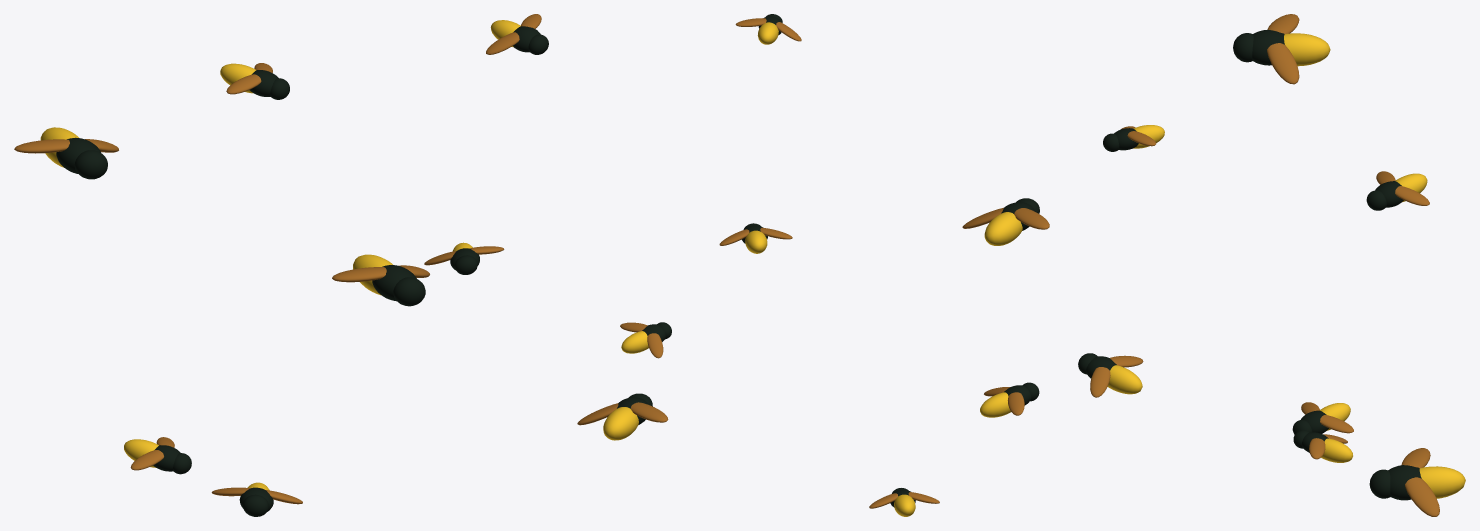
Rendered from Firefly_Swarm.obj.
3 views of the same model, side by side, from view 1: azimuth 30°, elevation 25°; view 2: azimuth 150°, elevation 25°; view 3: azimuth 270°, elevation 25° (orthographic). The views are drawn at different scales.
Visible parts, largest first — view 1: Firefly_06, Firefly_01, Firefly_02, Firefly_07, Firefly_03, Firefly_05, Firefly_04; view 2: Firefly_01, Firefly_06, Firefly_05, Firefly_04, Firefly_02, Firefly_03, Firefly_07; view 3: Firefly_01, Firefly_06, Firefly_05, Firefly_02, Firefly_07, Firefly_04, Firefly_03.
Part boxes in pixels (bbox=[...]): Firefly_06: bbox=[332, 254, 429, 306]; Firefly_01: bbox=[14, 127, 118, 179]; Firefly_02: bbox=[220, 63, 289, 99]; Firefly_07: bbox=[124, 437, 191, 474]; Firefly_03: bbox=[486, 14, 548, 54]; Firefly_05: bbox=[211, 482, 302, 516]; Firefly_04: bbox=[424, 242, 504, 274]; Firefly_01: bbox=[962, 198, 1049, 245]; Firefly_06: bbox=[577, 393, 668, 440]; Firefly_05: bbox=[980, 382, 1039, 417]; Firefly_04: bbox=[620, 322, 671, 358]; Firefly_02: bbox=[719, 223, 792, 253]; Firefly_03: bbox=[735, 14, 801, 44]; Firefly_07: bbox=[869, 488, 939, 516]; Firefly_01: bbox=[1233, 14, 1330, 84]; Firefly_06: bbox=[1369, 448, 1465, 516]; Firefly_05: bbox=[1078, 353, 1143, 397]; Firefly_02: bbox=[1366, 171, 1429, 210]; Firefly_07: bbox=[1292, 402, 1353, 434]; Firefly_04: bbox=[1293, 430, 1352, 462]; Firefly_03: bbox=[1103, 125, 1164, 151].
Size of the model in its own units: 0.7934 by 0.6846 by 0.5683.
